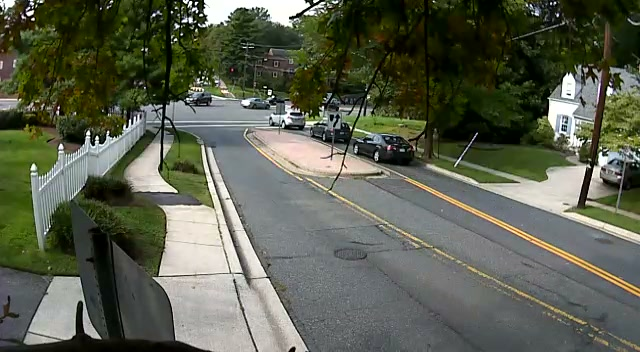car: (351, 133, 414, 165), (600, 150, 640, 189), (310, 118, 352, 143), (281, 112, 306, 130), (241, 98, 269, 110), (190, 92, 213, 106)
